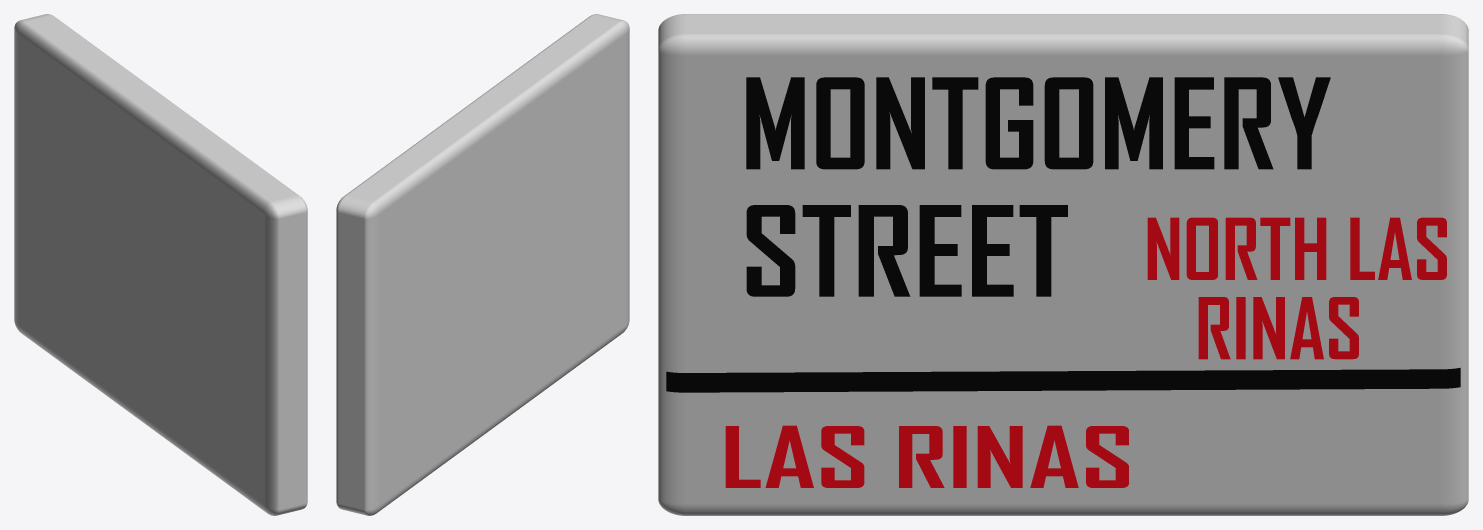
Rendered from uk_styled_street_sign_6.fbx.
3 renders of one model, left to right at view 1: azimuth 30°, elevation 25°; view 2: azimuth 150°, elevation 25°; view 3: azimuth 270°, elevation 25°, orthographic. The views are drawn at different scales.
Parts seen in each view (by area): view 1: Cube; view 2: Cube; view 3: Cube, Text, Text.001, Text.002, Text.003, Text.004.
Part boxes in pixels (bbox=[...]): Cube: bbox=[14, 14, 307, 515]; Cube: bbox=[336, 14, 629, 515]; Cube: bbox=[658, 14, 1468, 515]; Text: bbox=[746, 77, 1330, 169]; Text.001: bbox=[746, 205, 1067, 296]; Text.002: bbox=[725, 425, 1128, 487]; Text.003: bbox=[1147, 217, 1446, 279]; Text.004: bbox=[1198, 297, 1358, 359].
Bounding box in the file's own units: 1.63 × 11.91 × 18.18.
